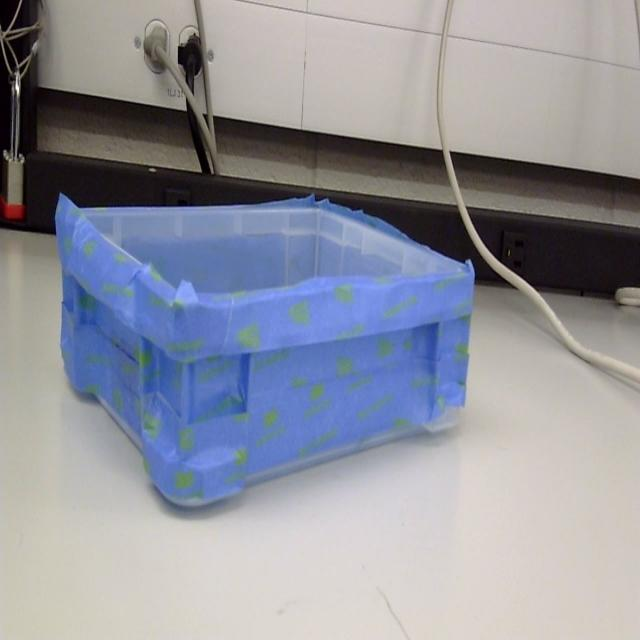bucket: (54, 197, 476, 512)
